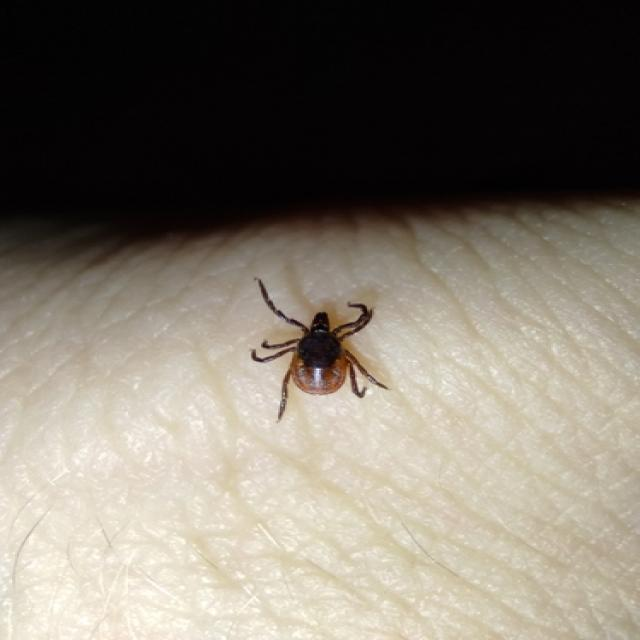Ixodes Ricinus-F: (249, 283, 391, 416)
